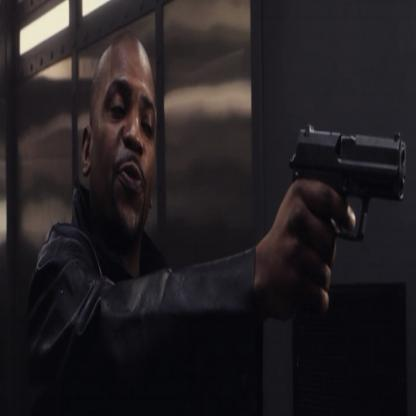gun: (282, 91, 413, 255)
